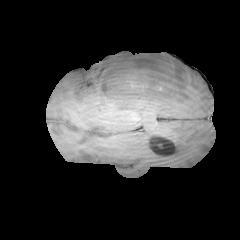glioma: (81, 51, 188, 115)
